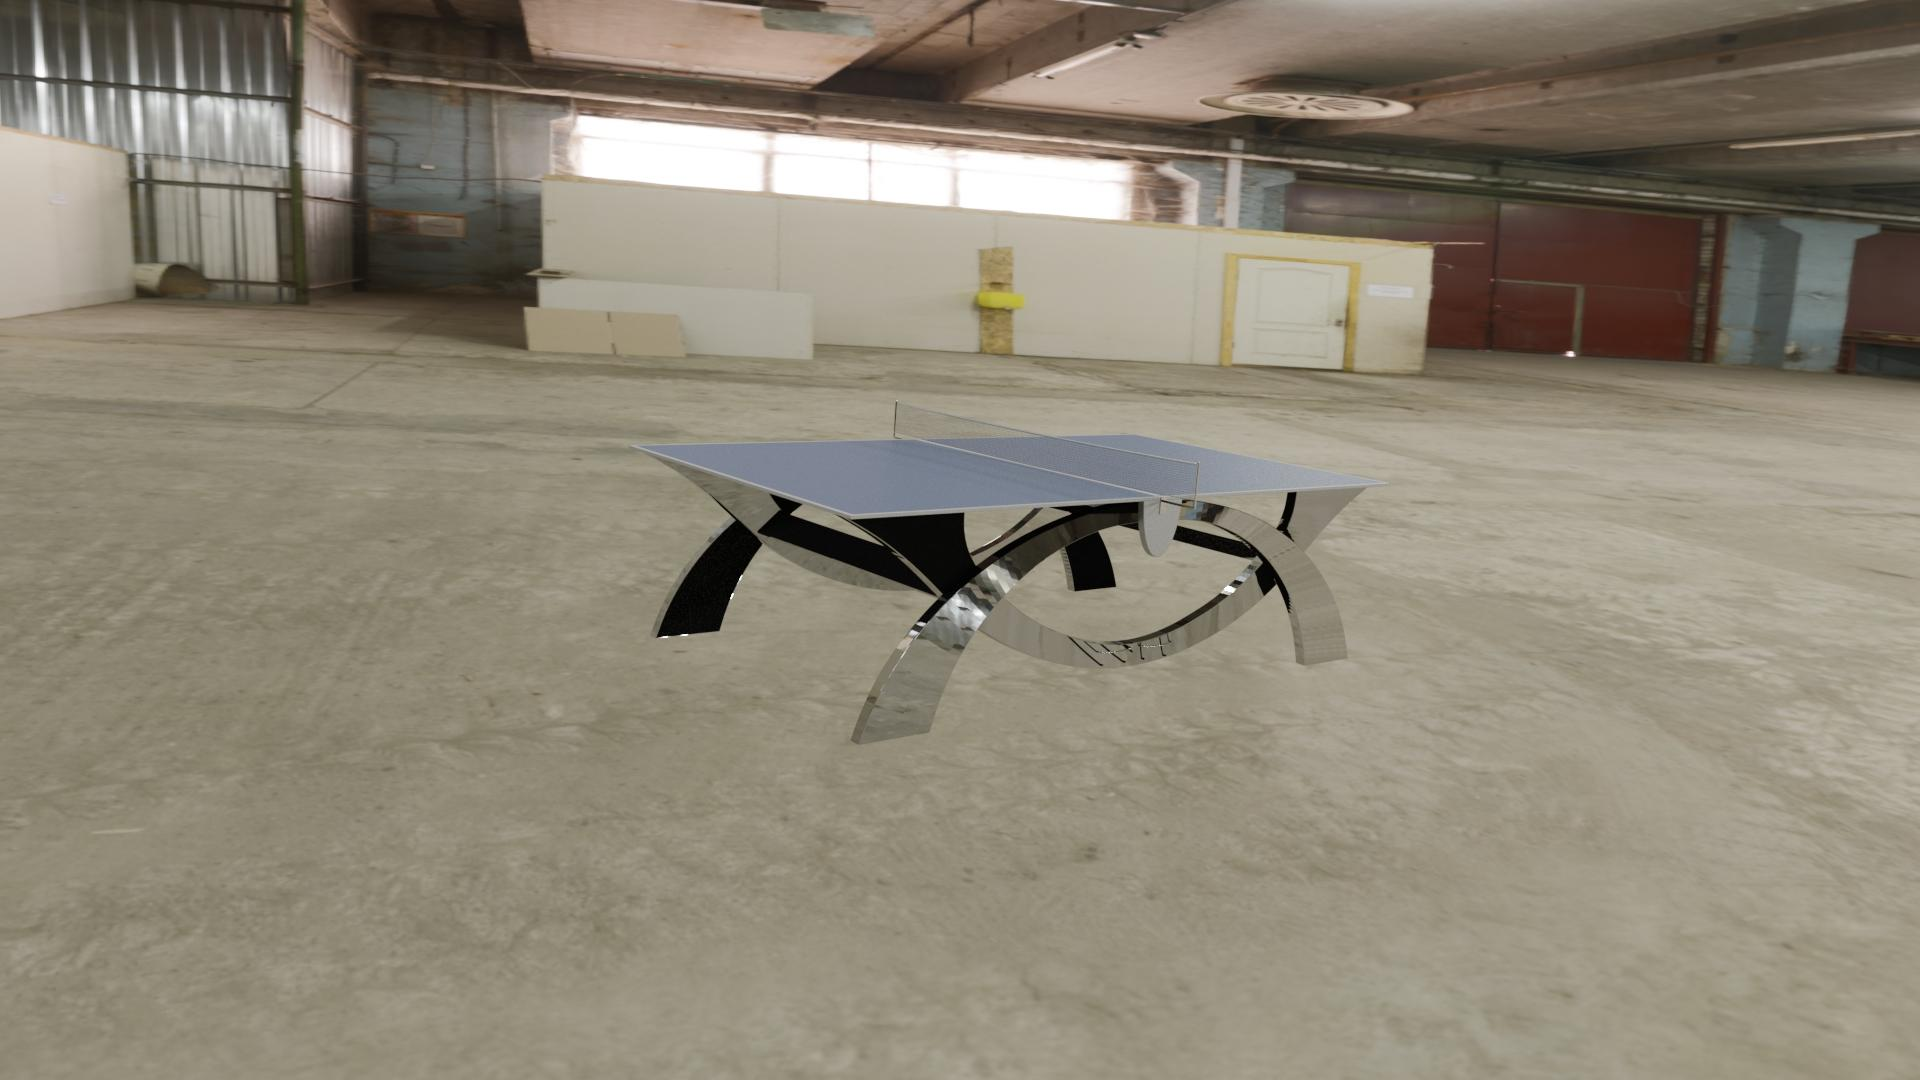table: (636, 435, 1385, 514)
